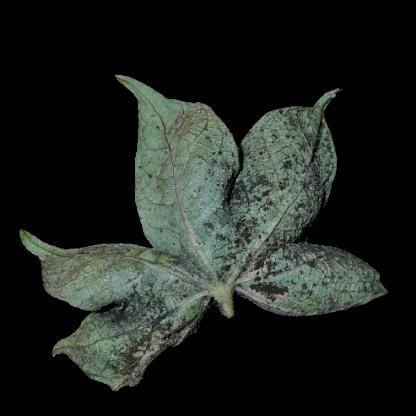curl_stage2: (146, 133, 198, 229), (50, 250, 120, 294)
sooty: (238, 132, 323, 239), (101, 296, 181, 362), (250, 251, 337, 307), (228, 254, 292, 310), (195, 206, 238, 252)
